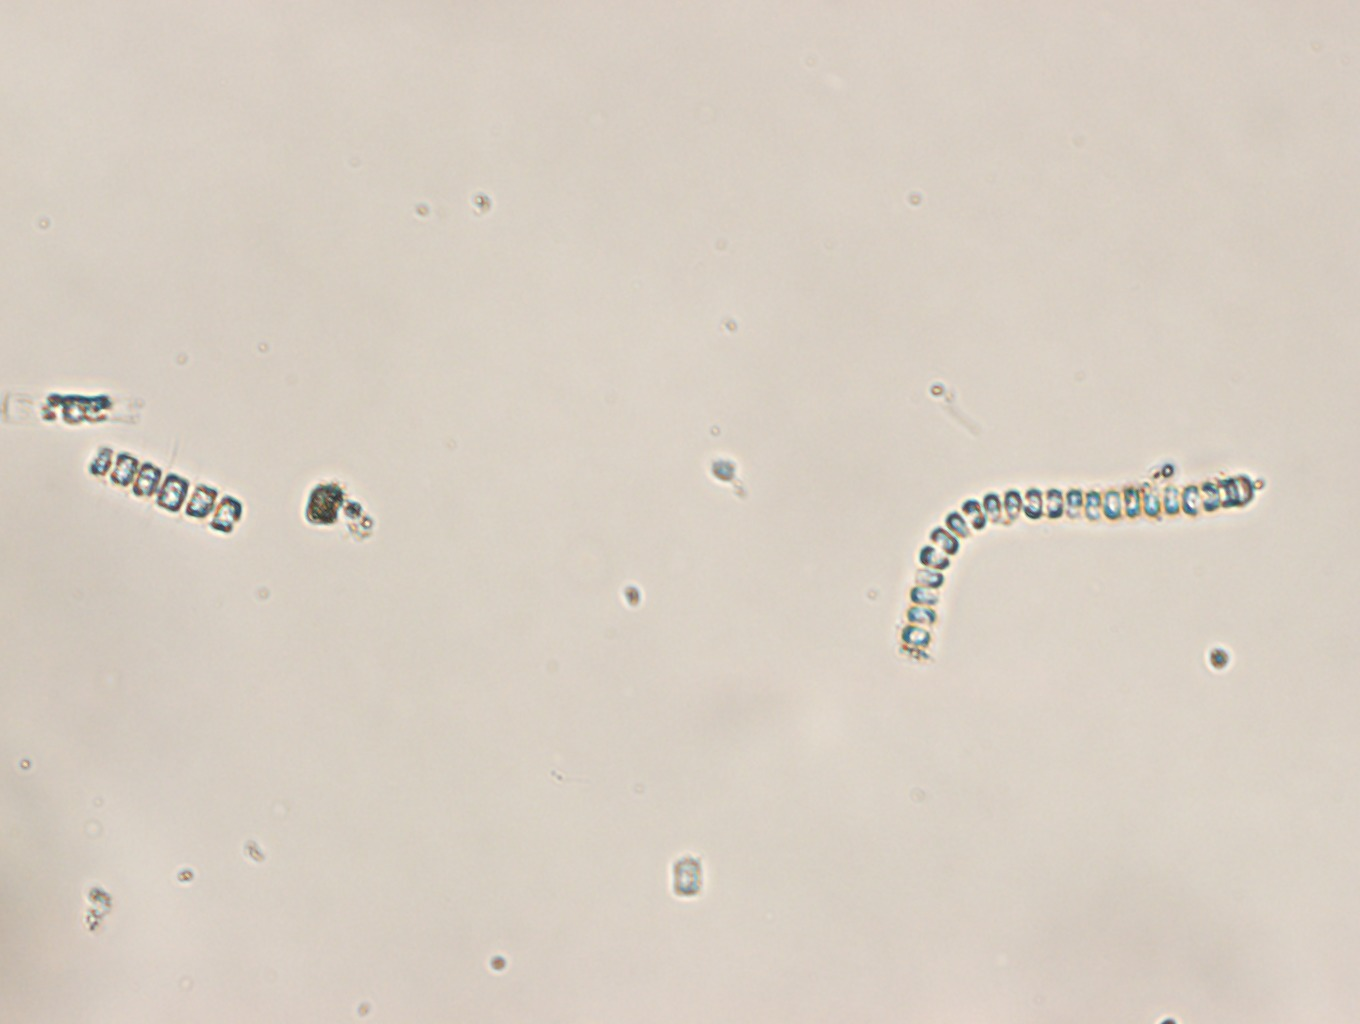skeletonema: (894, 472, 1257, 665), (86, 439, 245, 542)
